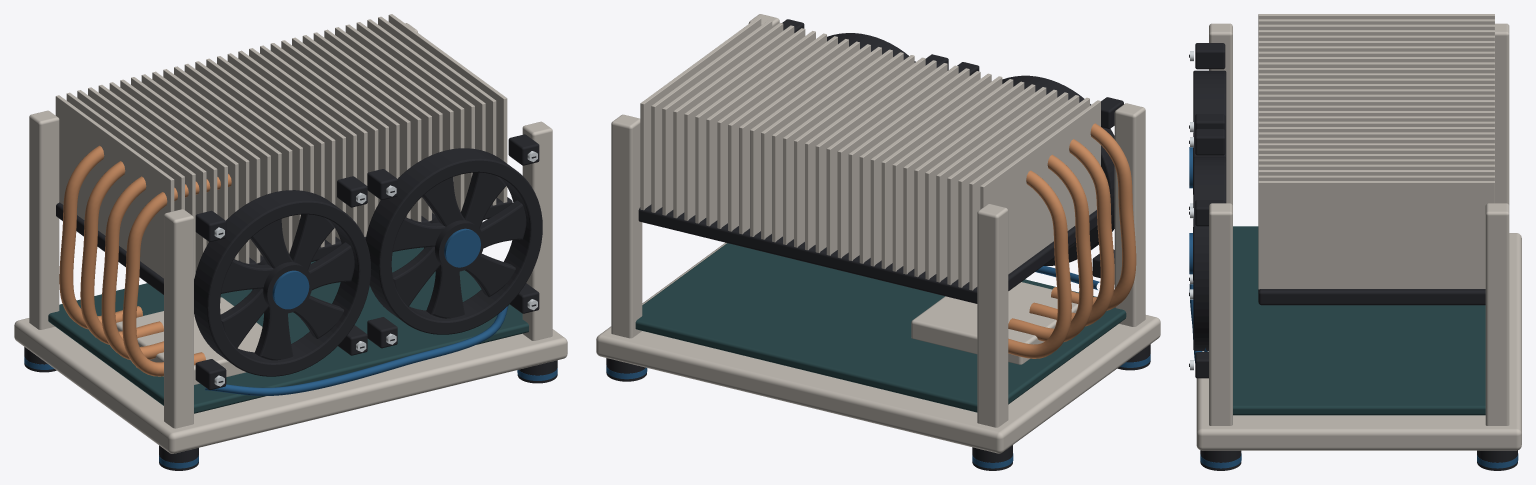
The model's file is anatomy-20.glb.
3 views of the same model, side by side, from view 1: azimuth 30°, elevation 25°; view 2: azimuth 150°, elevation 25°; view 3: azimuth 270°, elevation 25° (orthographic). The views are drawn at different scales.
Parts seen in each view (by area): view 1: fins, frame, shrouds, blades, board, pipes, hubs, wiring, block, feet, fan-fasteners; view 2: fins, frame, board, pipes, block, shrouds, feet; view 3: fins, board, frame, shrouds, feet, hubs, fan-fasteners.
Boxes of the visible parts, left/top/right/bottom form: fins: left=55, top=14, right=512, bottom=294; frame: left=14, top=23, right=567, bottom=453; shrouds: left=194, top=134, right=542, bottom=390; blades: left=220, top=172, right=526, bottom=360; board: left=48, top=247, right=528, bottom=413; pipes: left=59, top=145, right=231, bottom=376; hubs: left=252, top=217, right=484, bottom=313; wiring: left=205, top=305, right=508, bottom=395; block: left=116, top=297, right=262, bottom=384; feet: left=24, top=347, right=557, bottom=470; fan-fasteners: left=214, top=151, right=537, bottom=386; fins: left=638, top=17, right=1100, bottom=303; frame: left=596, top=14, right=1160, bottom=453; board: left=635, top=243, right=1126, bottom=412; pipes: left=1008, top=123, right=1136, bottom=358; block: left=911, top=282, right=1078, bottom=364; shrouds: left=782, top=19, right=1123, bottom=277; feet: left=606, top=344, right=1150, bottom=470; fins: left=1258, top=14, right=1494, bottom=305; board: left=1233, top=226, right=1485, bottom=415; frame: left=1196, top=23, right=1521, bottom=450; shrouds: left=1193, top=43, right=1226, bottom=378; feet: left=1200, top=450, right=1518, bottom=470; hubs: left=1189, top=147, right=1193, bottom=280; fan-fasteners: left=1189, top=51, right=1193, bottom=370.
Size of the model in its own units: 2.13 by 1.33 by 1.46.
